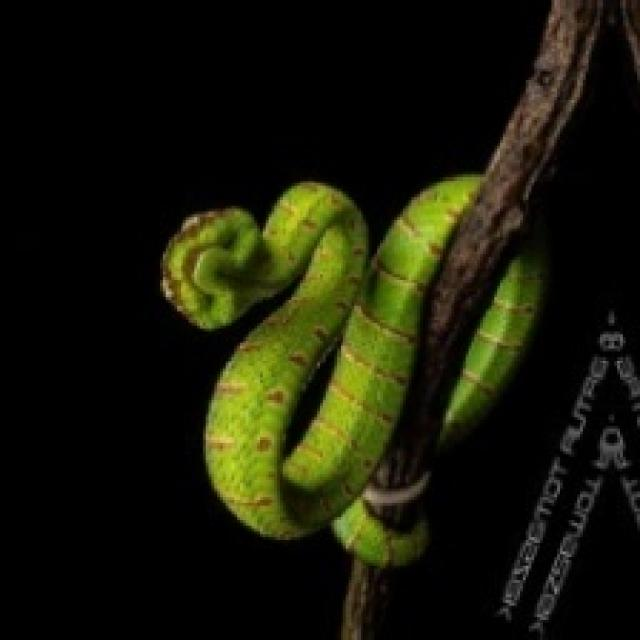north ph temple pitviper: (163, 174, 477, 563), (440, 234, 543, 443)
